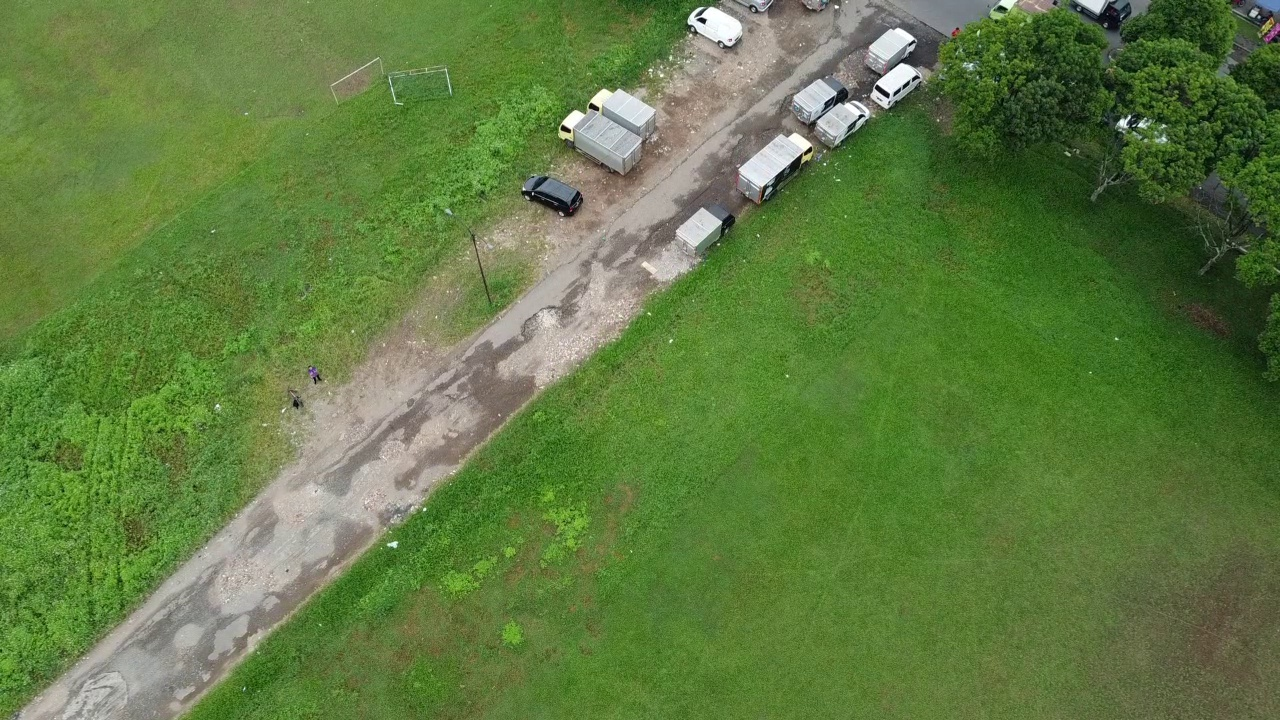mobil: (516, 172, 589, 220), (685, 5, 745, 51), (871, 60, 924, 108)
